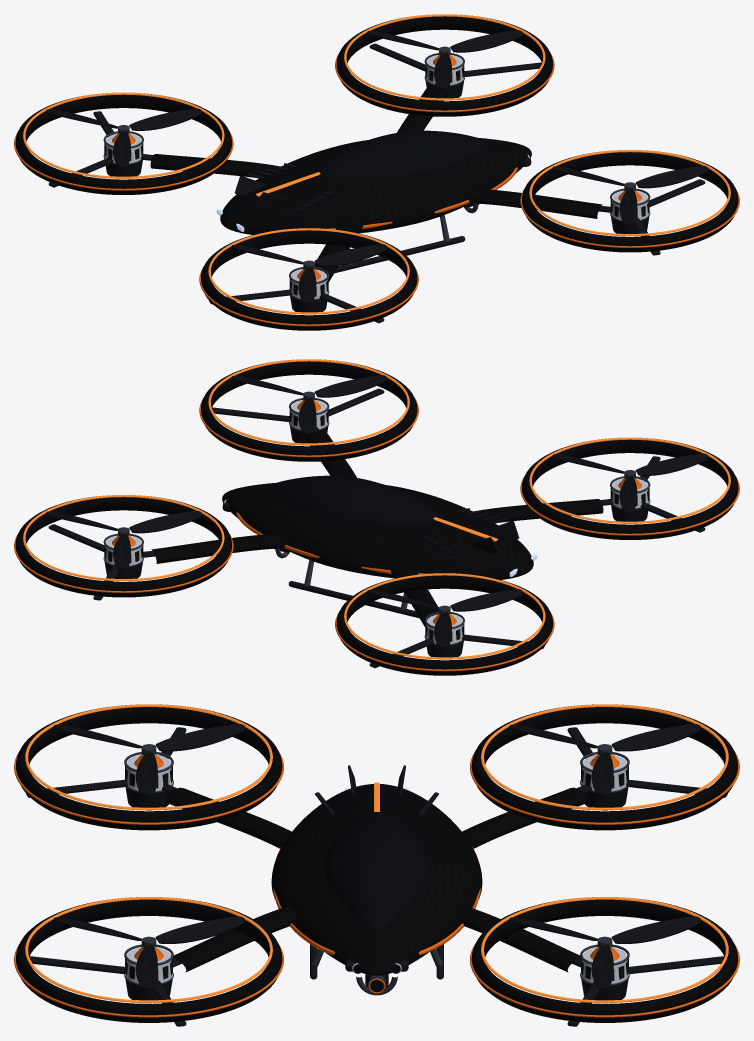
Rendered from aeronex.glb.
The picture shows the model from 3 angles, top to bottom: view 1: azimuth 30°, elevation 25°; view 2: azimuth 150°, elevation 25°; view 3: azimuth 270°, elevation 25°; orthographic projection. The views are drawn at different scales.
Visible parts, largest first — view 1: Hull, Arm and motor front right, Arm and motor rear left, Arm and motor front left, Arm and motor rear right, Canopy, Propeller rear right, Propeller front right, Propeller front left, Propeller rear left, Spine and tail, Landing skids; view 2: Hull, Arm and motor front left, Arm and motor rear right, Arm and motor front right, Arm and motor rear left, Canopy, Propeller front right, Propeller front left, Propeller rear left, Propeller rear right, Spine and tail, Landing skids; view 3: Hull, Arm and motor front left, Arm and motor front right, Arm and motor rear left, Arm and motor rear right, Canopy, Propeller rear left, Propeller rear right, Propeller front right, Propeller front left, Spine and tail, Hull trim (+2 smaller).
Part boxes in pixels (x1,y1,x2,y2): Hull: (220, 137, 531, 234); Arm and motor front right: (465, 150, 739, 255); Arm and motor rear left: (14, 92, 280, 194); Arm and motor front left: (335, 14, 554, 132); Arm and motor rear right: (199, 220, 418, 330); Canopy: (315, 130, 490, 177); Propeller rear right: (231, 244, 387, 303); Propeller front right: (552, 165, 708, 225); Propeller front left: (367, 30, 522, 89); Propeller rear left: (46, 108, 201, 167); Spine and tail: (216, 163, 332, 231); Landing skids: (334, 215, 465, 273); Hull: (222, 482, 533, 579); Arm and motor front left: (14, 495, 288, 600); Arm and motor rear right: (473, 437, 739, 539); Arm and motor front right: (199, 359, 418, 477); Arm and motor rear left: (335, 565, 554, 675); Canopy: (263, 475, 438, 522); Propeller front right: (231, 375, 387, 434); Propeller front left: (46, 510, 201, 570); Propeller rear left: (367, 589, 522, 648); Propeller rear right: (552, 453, 708, 512); Spine and tail: (421, 508, 537, 576); Landing skids: (288, 560, 419, 618); Hull: (271, 784, 482, 975); Arm and motor front left: (458, 897, 739, 1026); Arm and motor front right: (14, 897, 295, 1026); Arm and motor rear left: (462, 704, 739, 848); Arm and motor rear right: (14, 704, 291, 848); Canopy: (325, 812, 428, 929); Propeller rear left: (509, 723, 700, 796); Propeller rear right: (53, 723, 245, 796); Propeller front right: (53, 916, 245, 989); Propeller front left: (509, 916, 700, 989); Spine and tail: (315, 765, 438, 815); Hull trim: (273, 847, 480, 955).
Bounding box in the file's own units: 3.44 × 0.6029 × 3.44.
10 materials, 2 textured.
